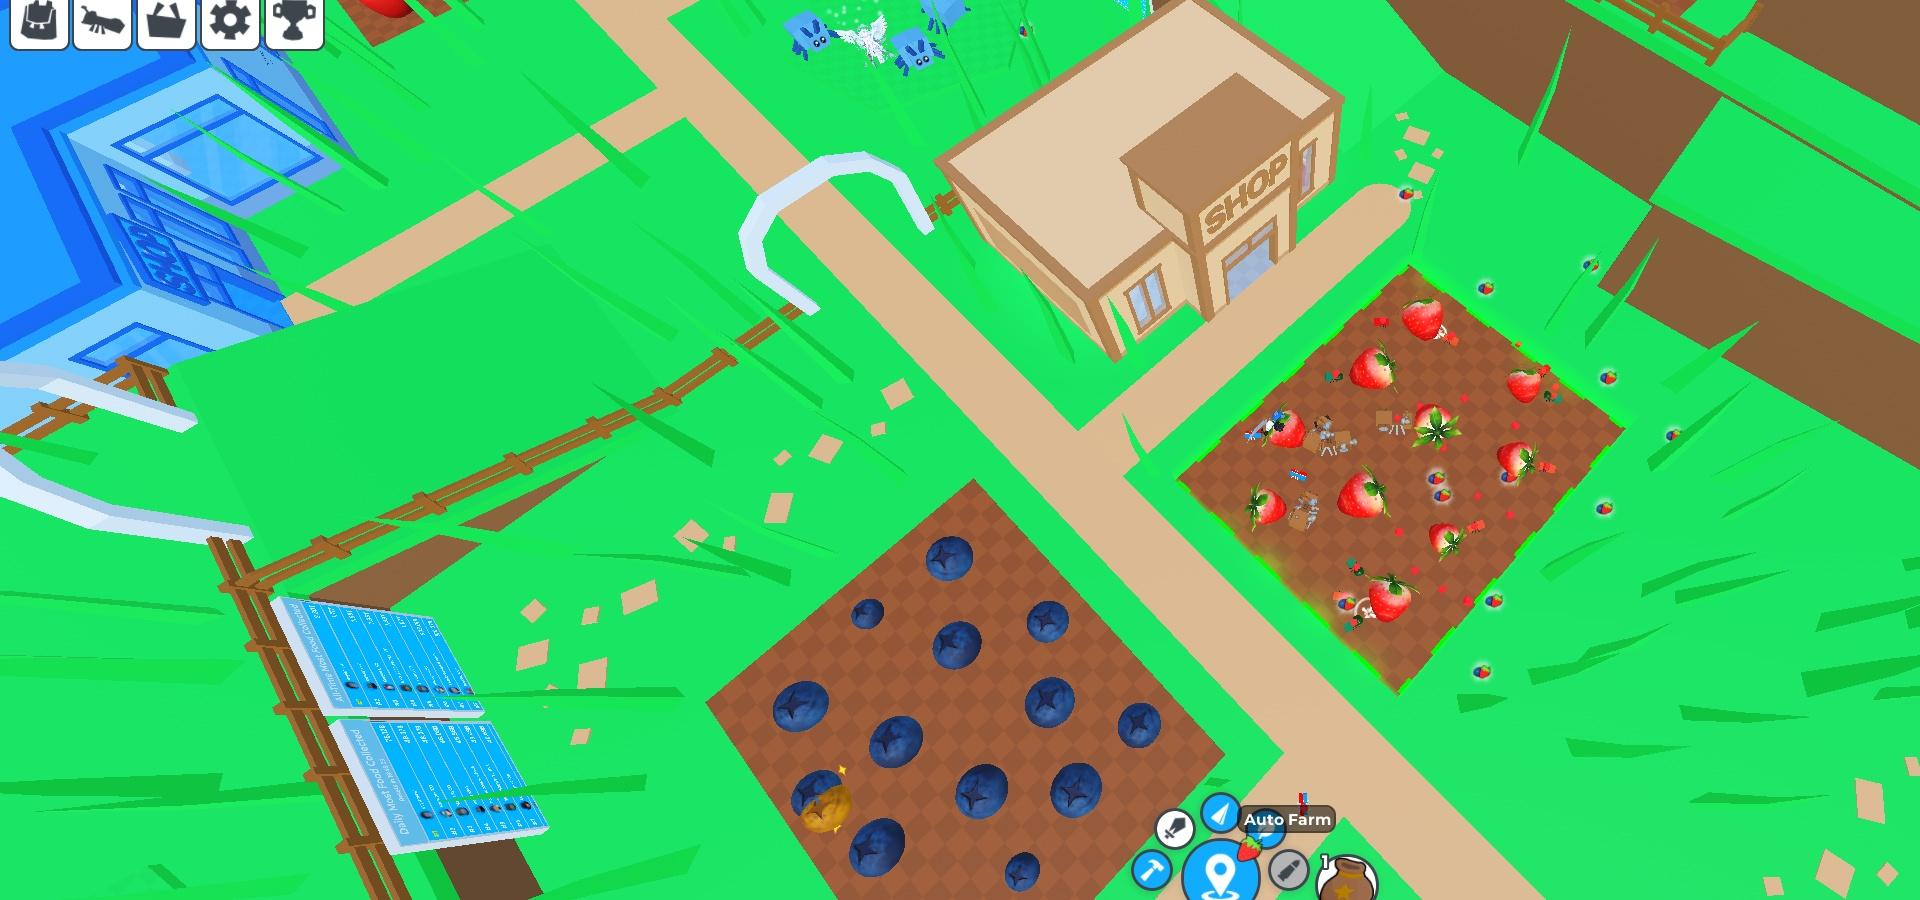Enemy: (833, 11, 893, 66), (784, 10, 835, 62), (889, 29, 944, 77), (918, 0, 971, 37)
